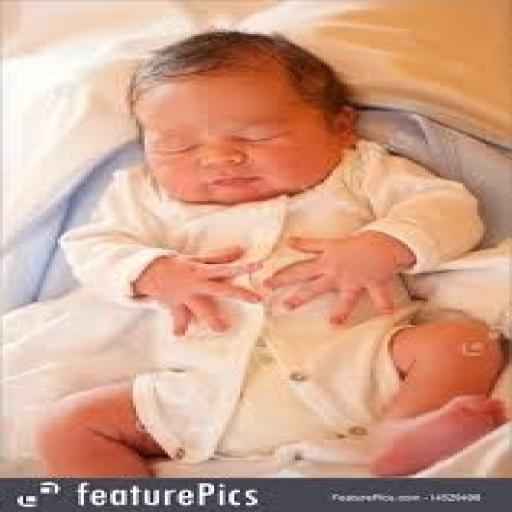sleeping: (9, 27, 509, 478)
